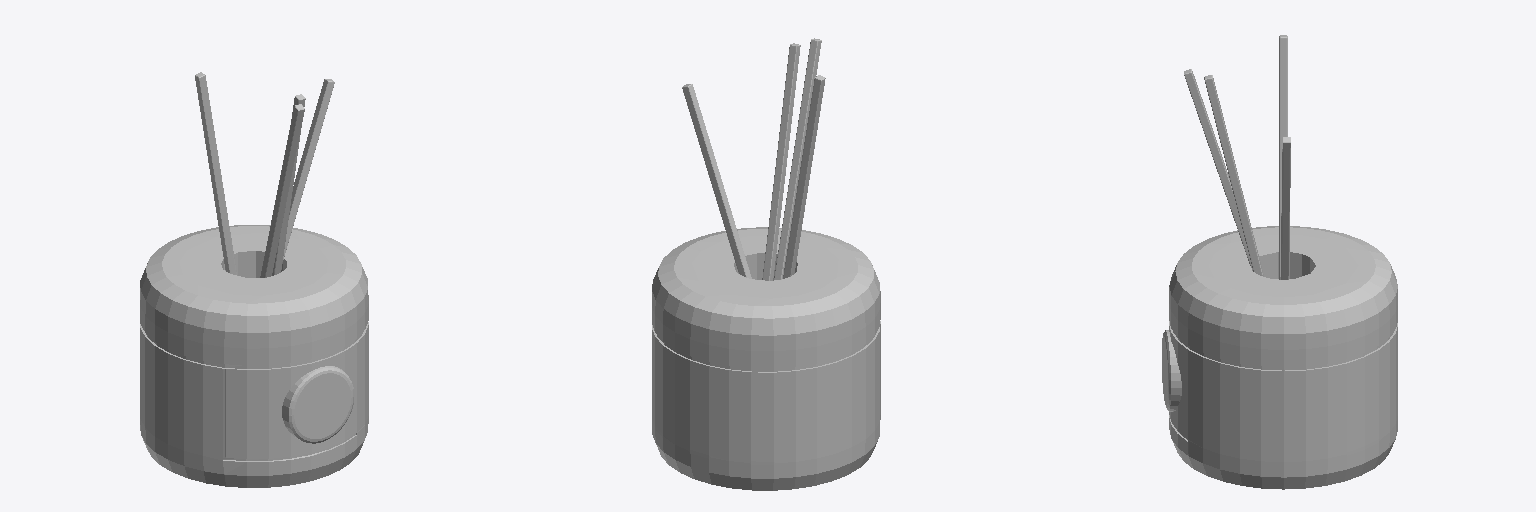
File: SetA_Container_Style_13.obj
3 renders of one model, left to right at view 1: azimuth 30°, elevation 25°; view 2: azimuth 150°, elevation 25°; view 3: azimuth 270°, elevation 25°, orthographic.
Visible parts, largest first — view 1: SetA_Container_Style_13; view 2: SetA_Container_Style_13; view 3: SetA_Container_Style_13.
Part boxes in pixels (left/top/right/bottom): SetA_Container_Style_13: left=140, top=72, right=368, bottom=487; SetA_Container_Style_13: left=652, top=38, right=880, bottom=490; SetA_Container_Style_13: left=1162, top=35, right=1397, bottom=489.
Size of the model in its own units: 0.1953 by 0.3636 by 0.2016.